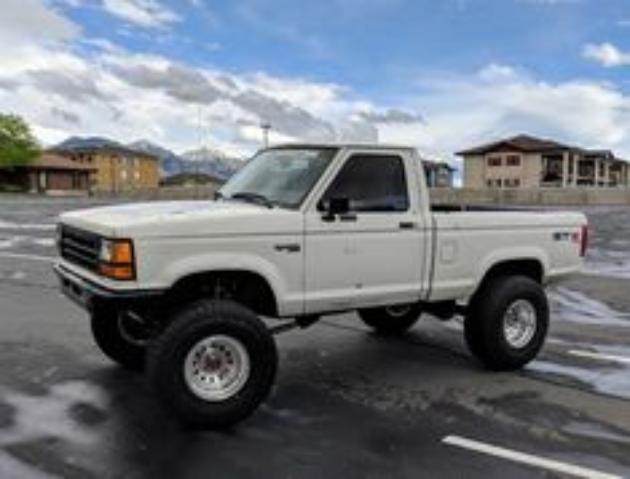pickup-truck: (52, 145, 591, 429)
